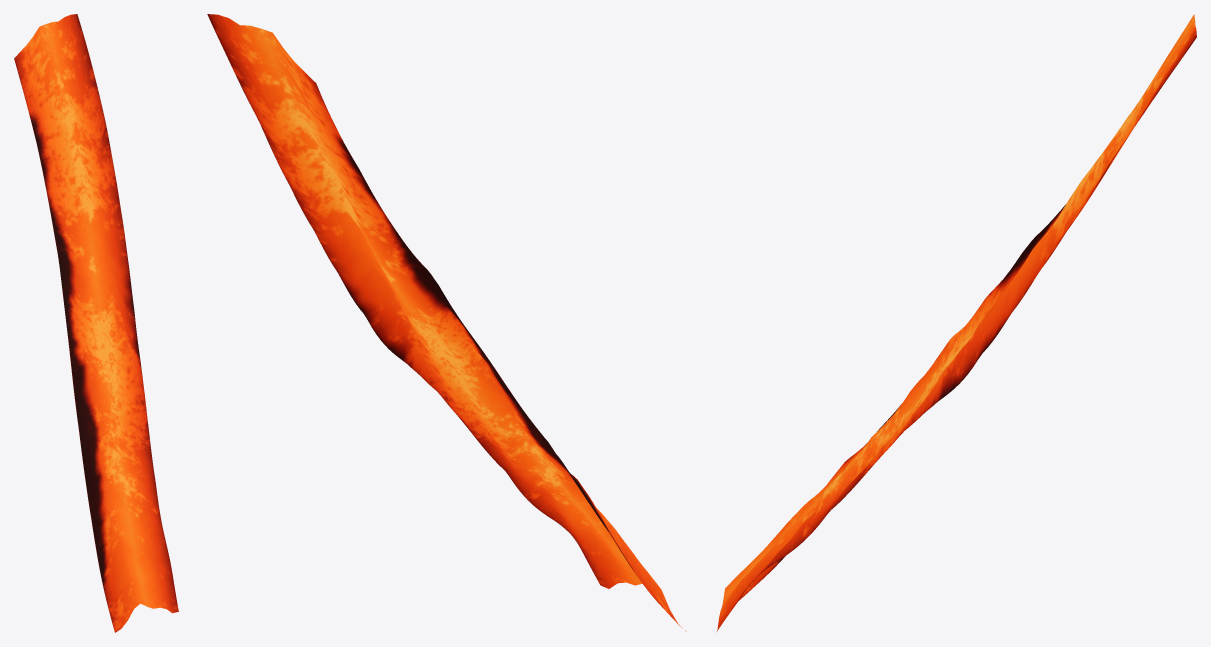
File: flow_2_1.glb
3 views of the same model, side by side, from view 1: azimuth 30°, elevation 25°; view 2: azimuth 150°, elevation 25°; view 3: azimuth 270°, elevation 25° (orthographic). The views are drawn at different scales.
Size of the model in its own units: 4.98 by 17.4 by 11.49.
